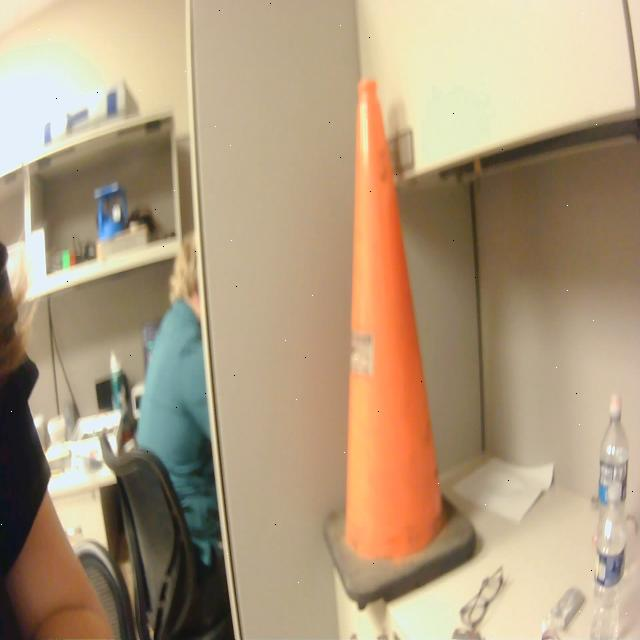traffic cone: (318, 71, 484, 621)
